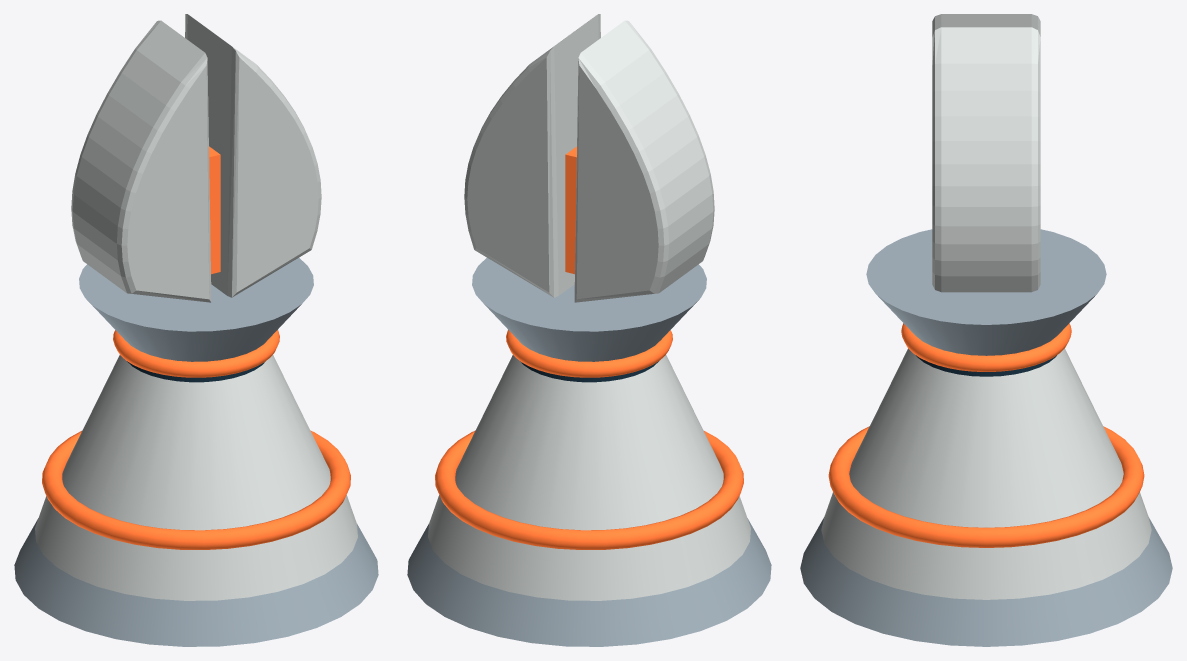
The model's file is bishop.glb.
3 views of the same model, side by side, from view 1: azimuth 30°, elevation 25°; view 2: azimuth 150°, elevation 25°; view 3: azimuth 270°, elevation 25° (orthographic). The views are drawn at different scales.
Parts seen in each view (by area): view 1: stem, split_cap_-1, split_cap_1, foot, mount, body, power_collar, power_neck, power_split, neck; view 2: stem, split_cap_-1, split_cap_1, foot, mount, body, power_collar, power_neck, power_split, neck; view 3: stem, split_cap_1, foot, mount, body, power_collar, power_neck, split_cap_-1, neck.
Part boxes in pixels (x1,y1,x2,y2): stem: (62,355,330,530); split_cap_-1: (71,20,211,302); split_cap_1: (185,14,321,297); foot: (14,518,378,646); mount: (35,495,357,600); body: (79,258,313,361); power_collar: (42,430,350,549); power_neck: (113,330,279,377); power_split: (209,146,220,274); neck: (127,361,265,382); stem: (455,355,723,530); split_cap_-1: (574,20,714,302); split_cap_1: (464,14,600,297); foot: (407,518,771,646); mount: (428,495,750,600); body: (472,258,706,361); power_collar: (435,430,743,549); power_neck: (506,330,672,377); power_split: (565,146,576,274); neck: (520,361,658,382); stem: (849,348,1123,527); split_cap_1: (932,27,1040,292); foot: (800,517,1172,646); mount: (821,492,1151,599); body: (866,229,1106,355); power_collar: (828,426,1144,547); power_neck: (901,323,1071,371); split_cap_-1: (932,14,1040,36); neck: (916,355,1056,376).
Size of the model in its own units: 0.62 by 1.01 by 0.62.
